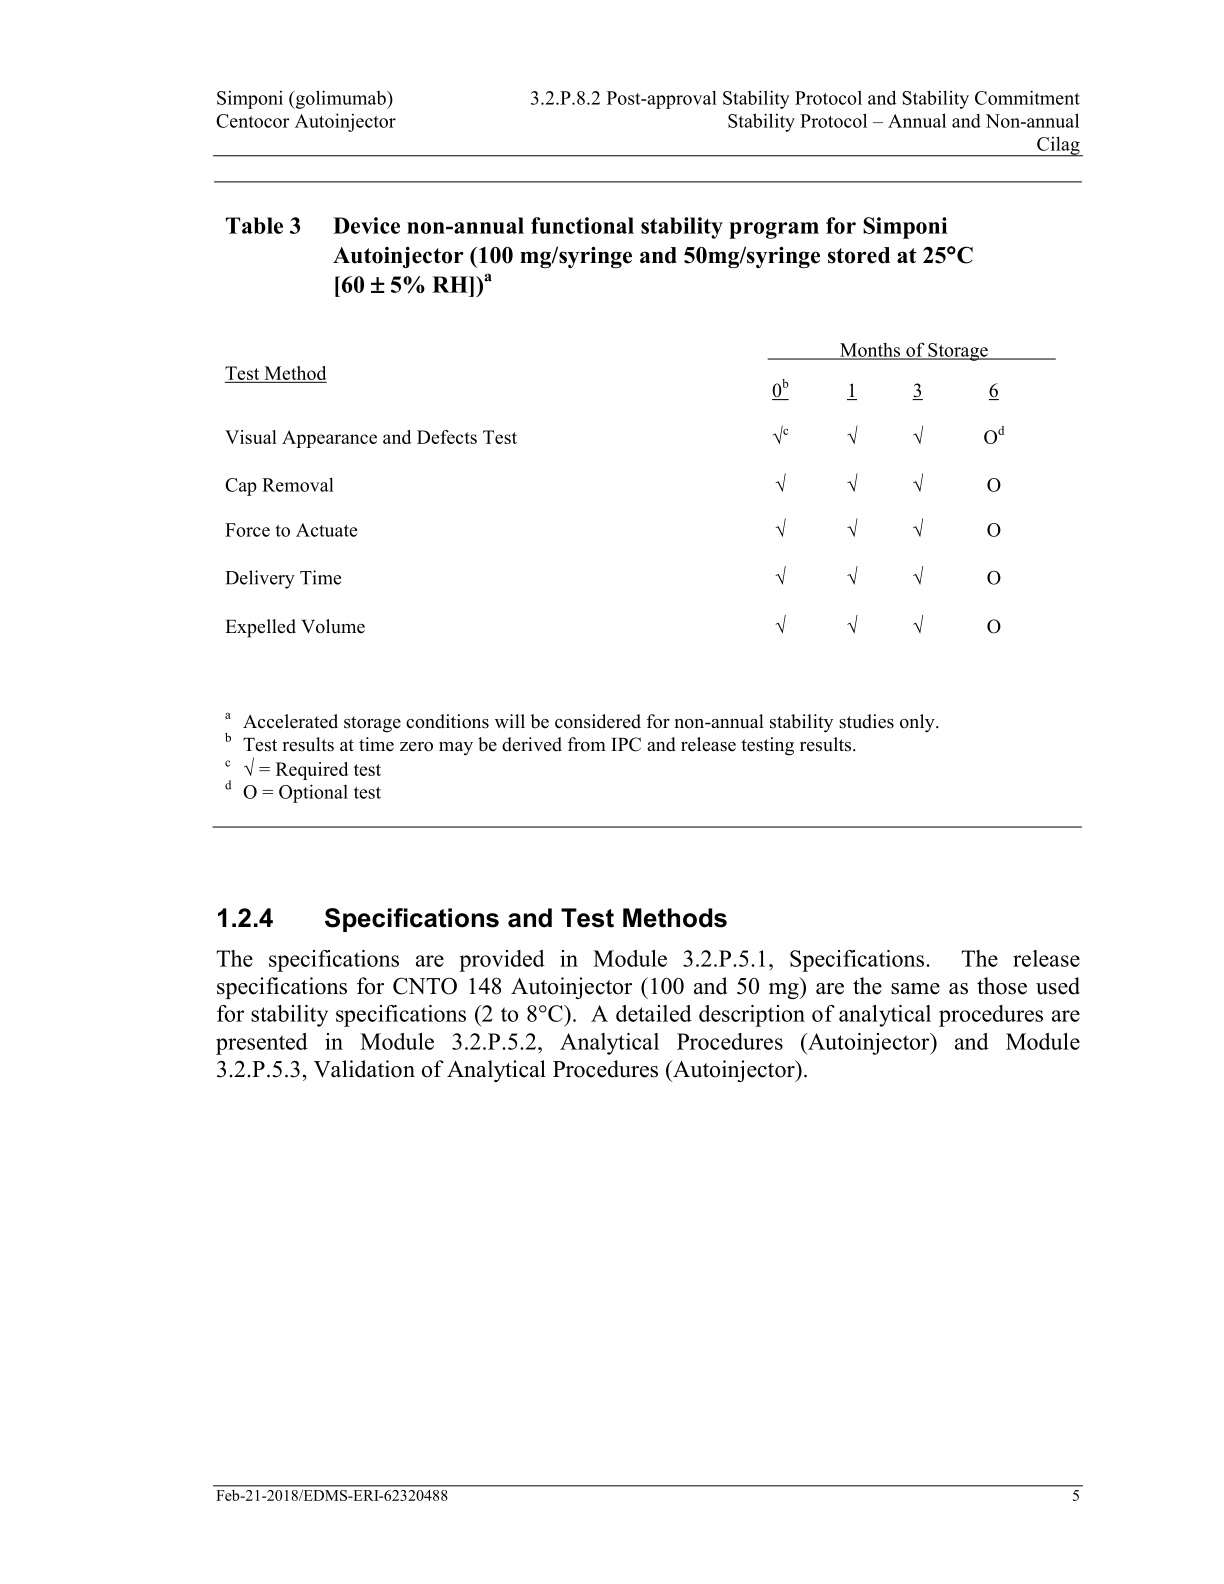nolines: (219, 337, 1056, 645)
